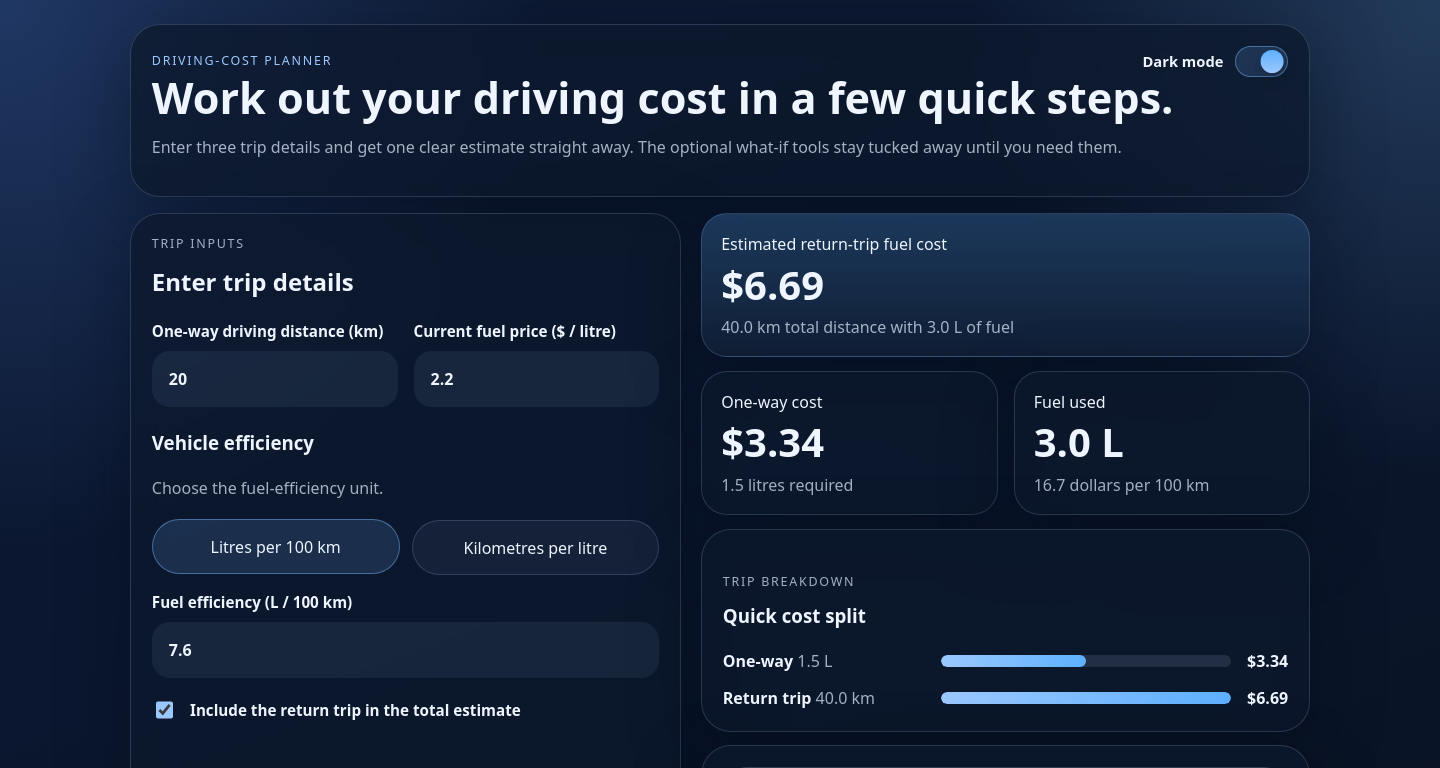
Test: App › updates the efficiency cap feedback when the unit mode changes
Replace the text in the number field labelled "Fuel efficiency (L / 100 km)" with "99" at {"x": 406, "y": 650}, box [152, 622, 659, 678]
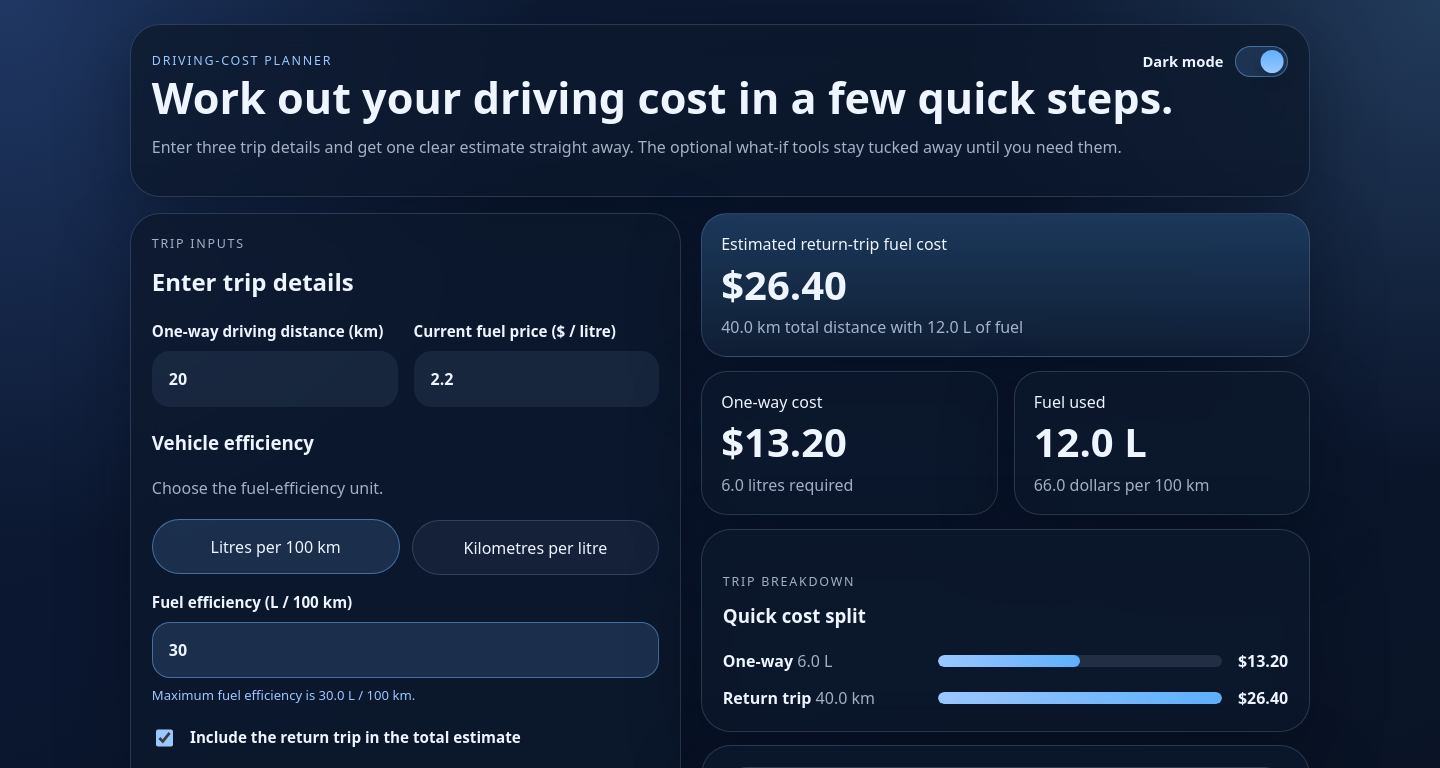
Now the number field labelled "Fuel efficiency (L / 100 km)" holds "30", box [152, 622, 659, 678]
Click the button "Kilometres per litre".
click(535, 548)  # box [412, 520, 659, 575]
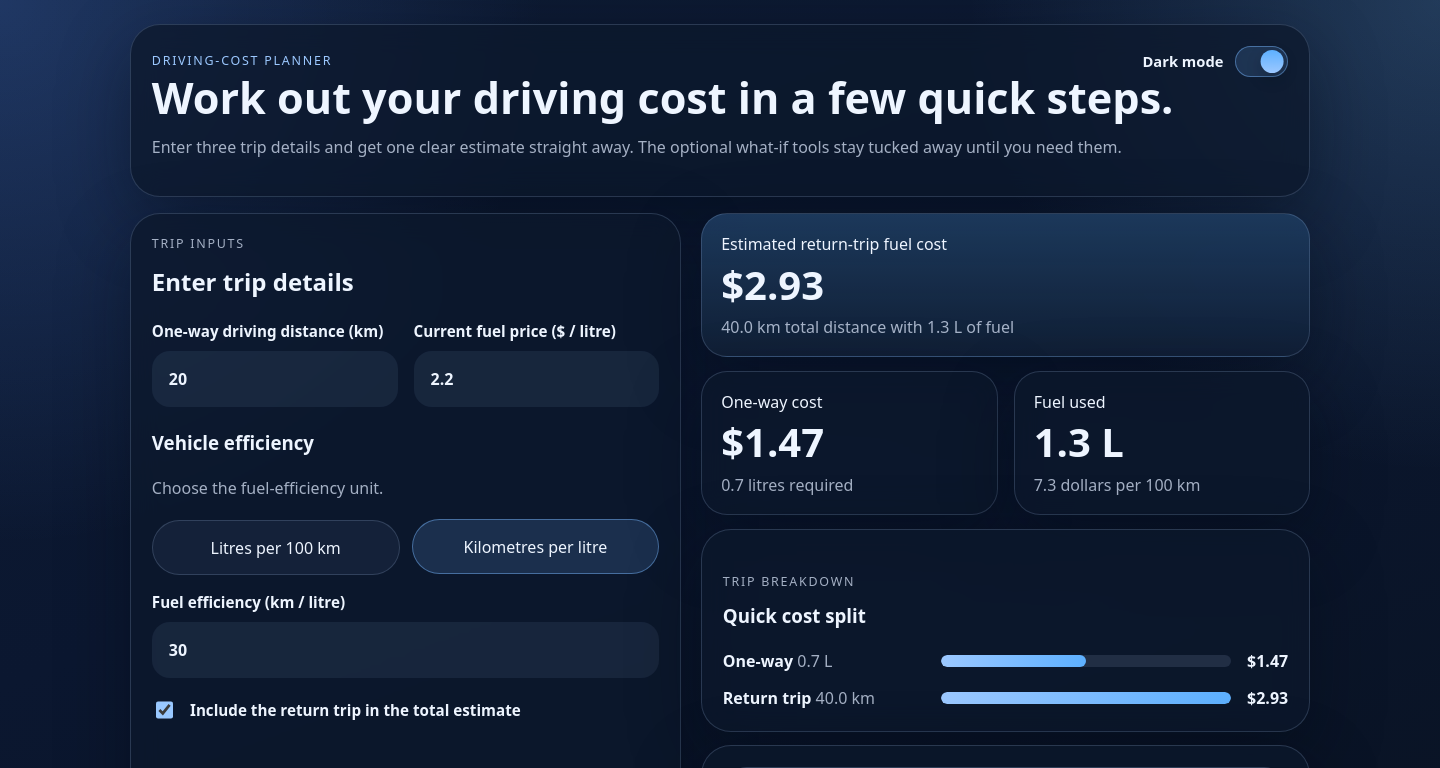
Now the number field labelled "Fuel efficiency (km / litre)" has attribute max="50"
Replace the text in the number field labelled "Fuel efficiency (km / litre)" with "99" at {"x": 406, "y": 650}, box [152, 622, 659, 678]
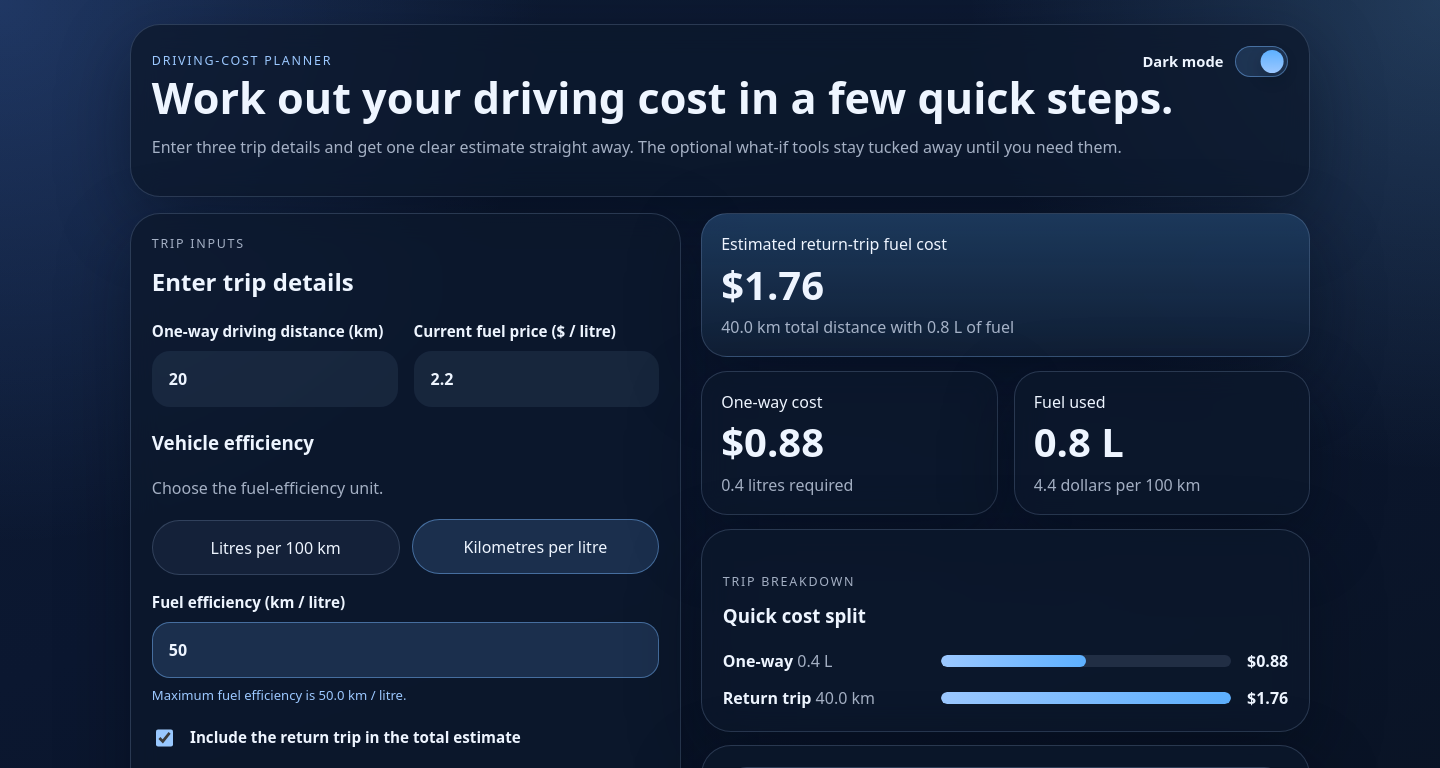
Now the number field labelled "Fuel efficiency (km / litre)" holds "50", box [152, 622, 659, 678]
